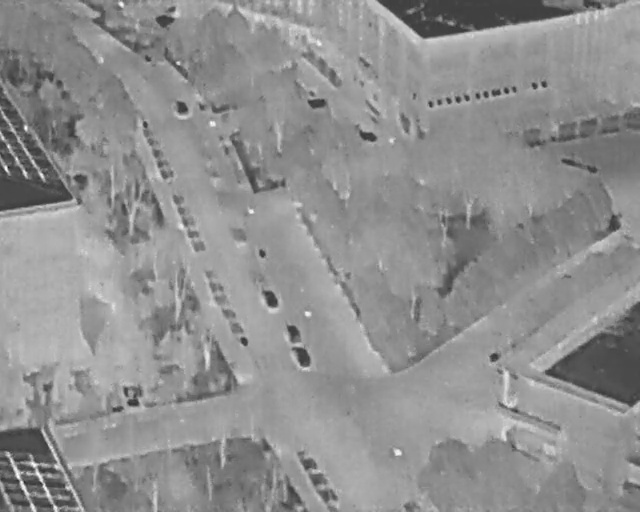Car: (289, 341, 314, 371), (261, 286, 279, 311), (285, 322, 302, 345), (175, 98, 189, 118)
